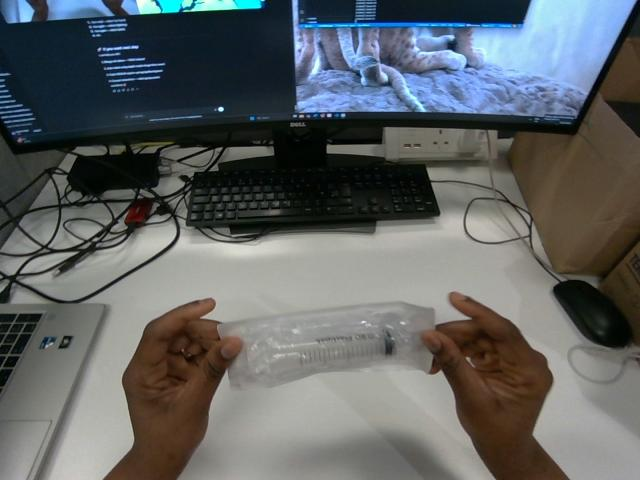syringe: (218, 302, 434, 388)
